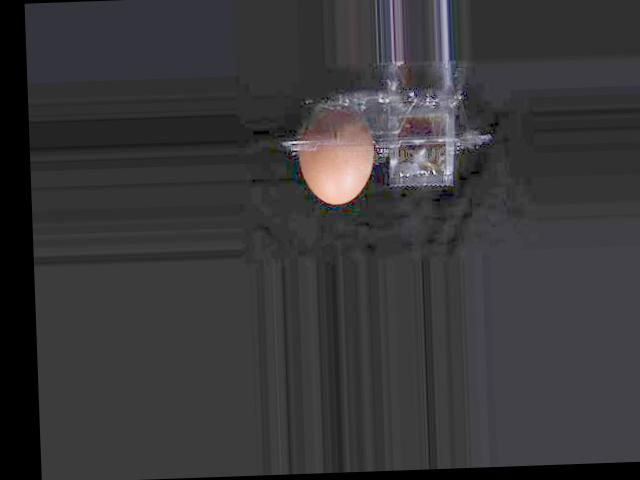egg: (295, 103, 374, 205)
